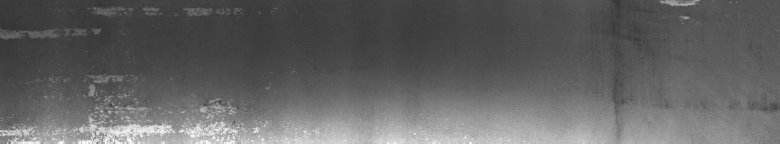kb: (4, 4, 317, 136)
